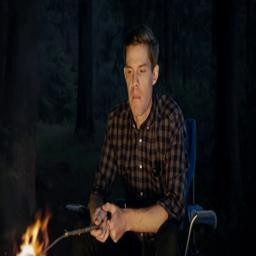fire: (15, 215, 50, 256)
